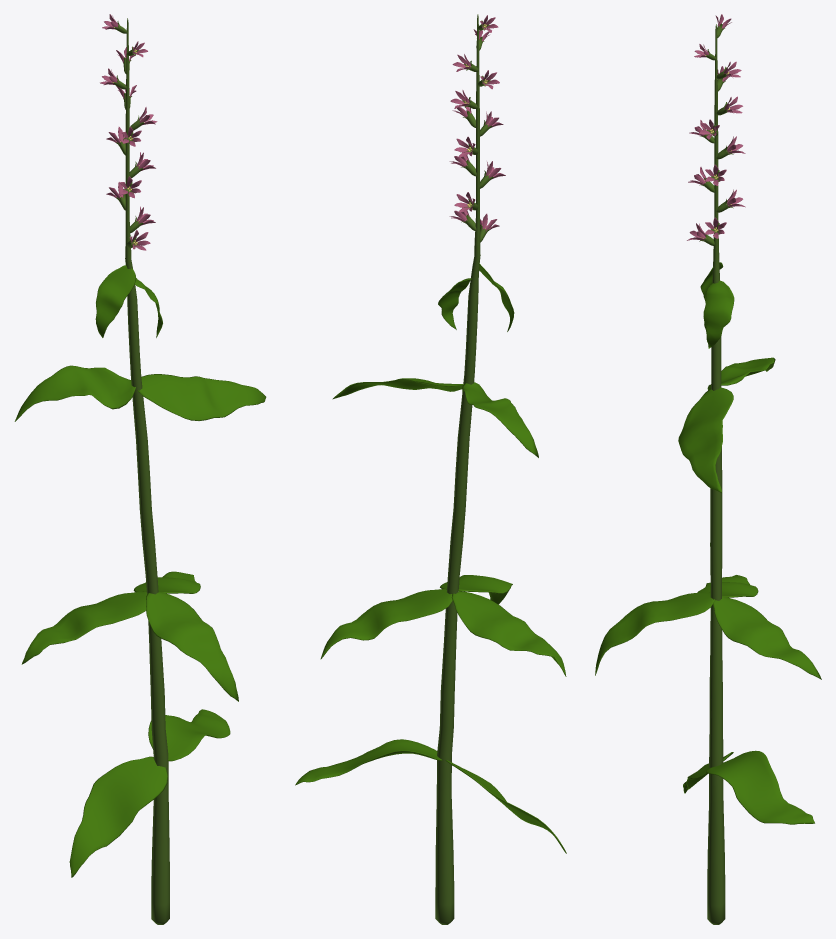
File: purple loosestrife 1.fbx
3 renders of one model, left to right at view 1: azimuth 30°, elevation 25°; view 2: azimuth 150°, elevation 25°; view 3: azimuth 270°, elevation 25°, orthographic. The views are drawn at different scales.
Visible parts, largest first — view 1: Cylinder, Circle, Circle.006, Circle.002, Circle.005, Circle.004, Circle.001, Circle.007, Circle.003; view 2: Cylinder, Circle.004, Circle.003, Circle.001, Circle.005, Circle.006, Circle.002, Circle, Circle.008; view 3: Cylinder, Circle.001, Circle.006, Circle.003, Circle.002, Circle.008, Circle.005, Circle.004.
Boxes of the visible parts, x1,y1,x2,y2 form: Cylinder: (125, 18, 169, 924); Circle: (69, 756, 167, 877); Circle.006: (138, 374, 266, 420); Circle.002: (146, 592, 238, 701); Circle.005: (14, 365, 135, 421); Circle.004: (21, 591, 147, 664); Circle.001: (148, 709, 230, 761); Circle.007: (95, 265, 135, 337); Circle.003: (133, 571, 200, 593); Cylinder: (435, 14, 480, 924); Circle.004: (451, 591, 566, 676); Circle.003: (320, 588, 452, 659); Circle.001: (295, 739, 442, 785); Circle.005: (462, 382, 538, 457); Circle.006: (332, 378, 463, 399); Circle.002: (440, 575, 512, 604); Circle: (445, 760, 566, 853); Circle.008: (438, 278, 471, 329); Cylinder: (707, 24, 725, 924); Circle.001: (706, 750, 814, 824); Circle.006: (678, 387, 733, 492); Circle.003: (713, 597, 821, 679); Circle.002: (595, 592, 714, 675); Circle.008: (703, 280, 734, 348); Circle.005: (707, 357, 775, 390); Circle.004: (697, 575, 758, 597).
Size of the model in its own units: 47.94 by 176 by 40.74.
